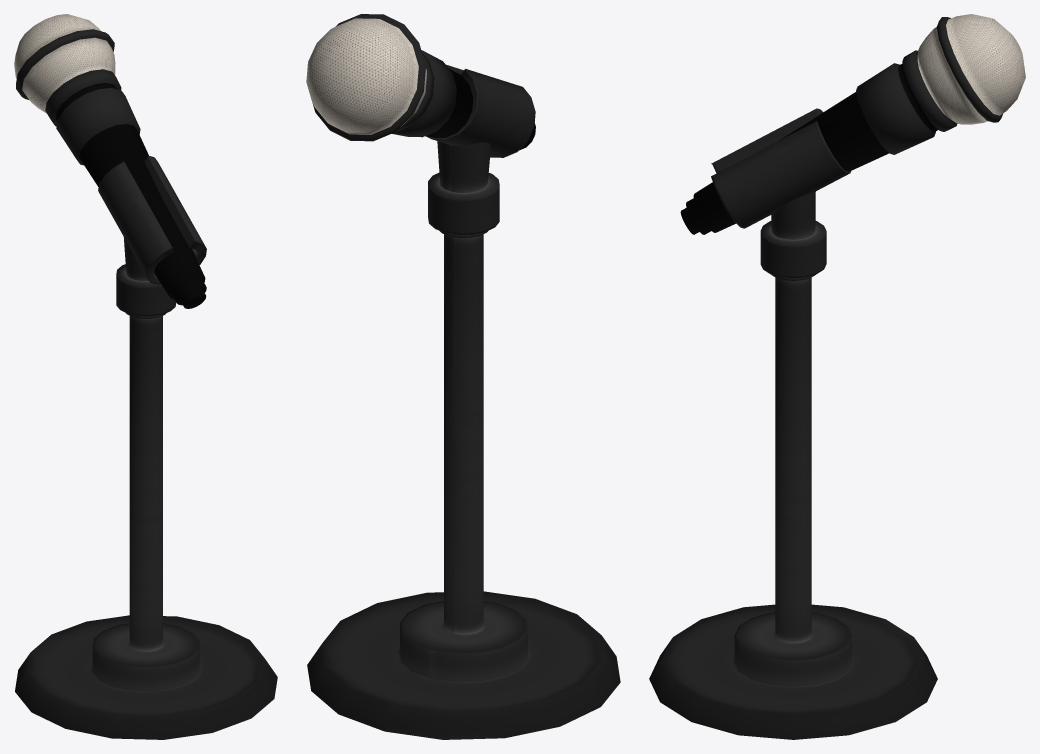
Rendered from Microfono.fbx.
3 views of the same model, side by side, from view 1: azimuth 30°, elevation 25°; view 2: azimuth 150°, elevation 25°; view 3: azimuth 270°, elevation 25° (orthographic). The views are drawn at different scales.
Parts seen in each view (by area): view 1: Soporte_Microfono; view 2: Soporte_Microfono; view 3: Soporte_Microfono.
Part boxes in pixels (x1=…): Soporte_Microfono: x1=14, y1=14, x2=277, y2=739; Soporte_Microfono: x1=306, y1=14, x2=620, y2=739; Soporte_Microfono: x1=649, y1=14, x2=1025, y2=739.
Bounding box in the file's own units: 34.45 × 86.85 × 44.94.
